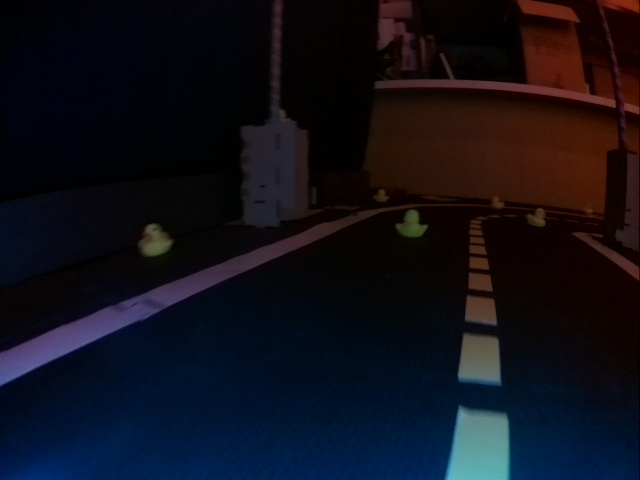Duckie: (140, 225, 173, 255), (397, 210, 426, 235), (527, 207, 545, 226), (376, 189, 390, 201), (494, 197, 504, 207)
